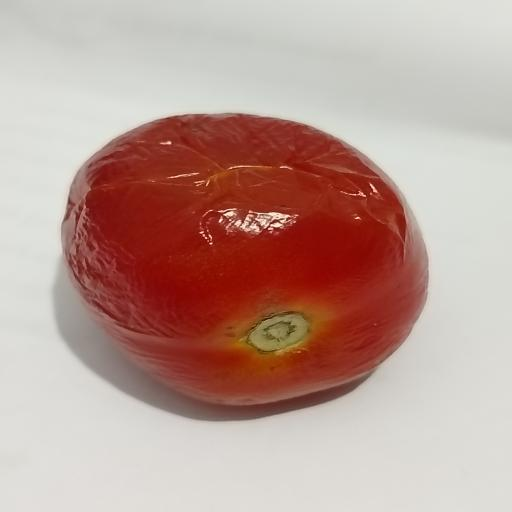spoiled: (63, 114, 428, 404)
